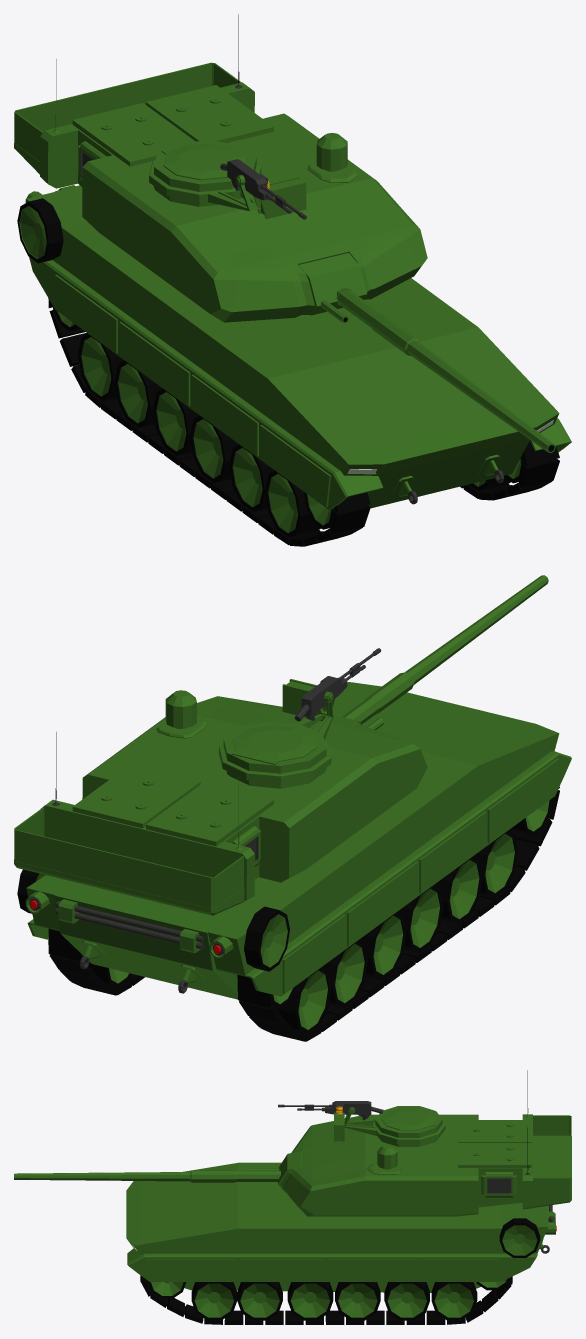
3 views of the same model, one above another, from view 1: azimuth 30°, elevation 25°; view 2: azimuth 150°, elevation 25°; view 3: azimuth 270°, elevation 25° (orthographic). The views are drawn at different scales.
Visible parts, largest first — view 1: Plane, Plane.001, Cube, Cube.001, Cube.003, Plane.002, Cube.002; view 2: Plane, Plane.001, Cube, Cube.001, Plane.002, Cube.003, Cube.002; view 3: Plane, Plane.001, Cube, Cube.001, Cube.003, Plane.002, Cube.002.
Boxes of the visible parts, left/top/right/bottom form: Plane: left=17, top=185, right=571, bottom=509; Plane.001: left=14, top=14, right=427, bottom=322; Cube: left=48, top=298, right=559, bottom=546; Cube.001: left=299, top=253, right=555, bottom=452; Cube.003: left=220, top=159, right=306, bottom=219; Plane.002: left=161, top=140, right=247, bottom=180; Cube.002: left=208, top=171, right=260, bottom=211; Plane: left=17, top=682, right=571, bottom=999; Plane.001: left=14, top=690, right=427, bottom=915; Cube: left=48, top=787, right=559, bottom=1041; Cube.001: left=332, top=575, right=548, bottom=729; Plane.002: left=231, top=725, right=316, bottom=764; Cube.003: left=282, top=648, right=381, bottom=721; Cube.002: left=294, top=687, right=333, bottom=740; Plane: left=126, top=1162, right=556, bottom=1292; Plane.001: left=280, top=1070, right=571, bottom=1216; Cube: left=140, top=1275, right=512, bottom=1324; Cube.001: left=14, top=1150, right=301, bottom=1192; Cube.003: left=278, top=1101, right=383, bottom=1142; Plane.002: left=381, top=1107, right=436, bottom=1130; Cube.002: left=344, top=1107, right=376, bottom=1135.
Size of the model in its own units: 363 by 429 by 1135.
